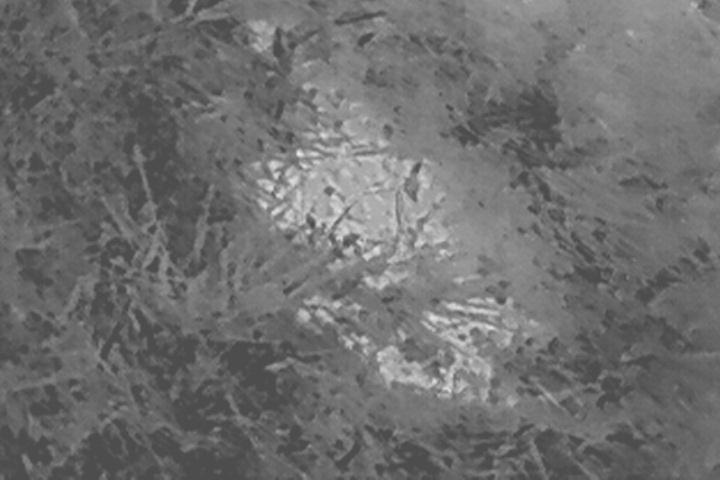landmine: (266, 144, 429, 246)
